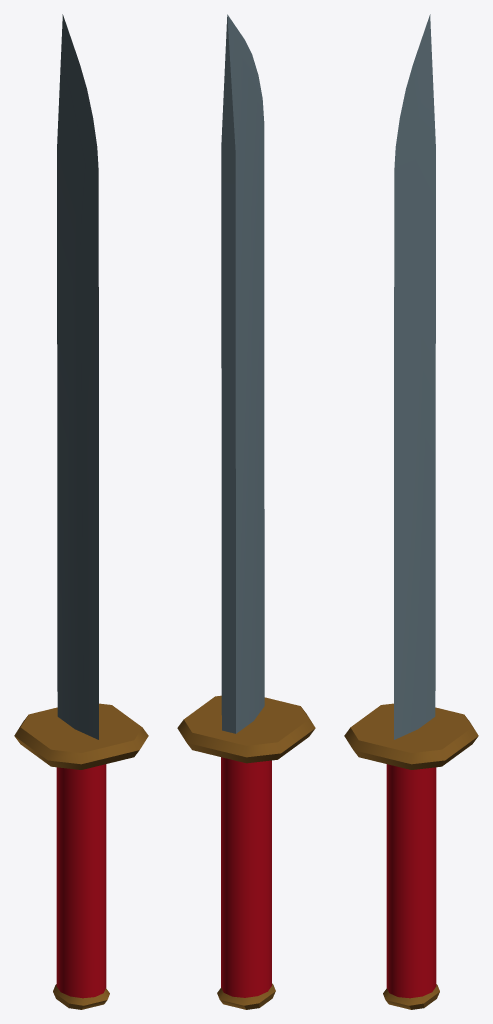
The model's file is katana.obj.
3 views of the same model, side by side, from view 1: azimuth 30°, elevation 25°; view 2: azimuth 150°, elevation 25°; view 3: azimuth 330°, elevation 25° (orthographic). The views are drawn at different scales.
Visible parts, largest first — view 1: katana_Cube.5987; view 2: katana_Cube.5987; view 3: katana_Cube.5987.
Boxes of the visible parts, bbox=[...] form: katana_Cube.5987: bbox=[14, 14, 148, 1009]; katana_Cube.5987: bbox=[177, 14, 315, 1009]; katana_Cube.5987: bbox=[344, 14, 478, 1009].
Size of the model in its own units: 0.1635 by 1.51 by 0.1635.
